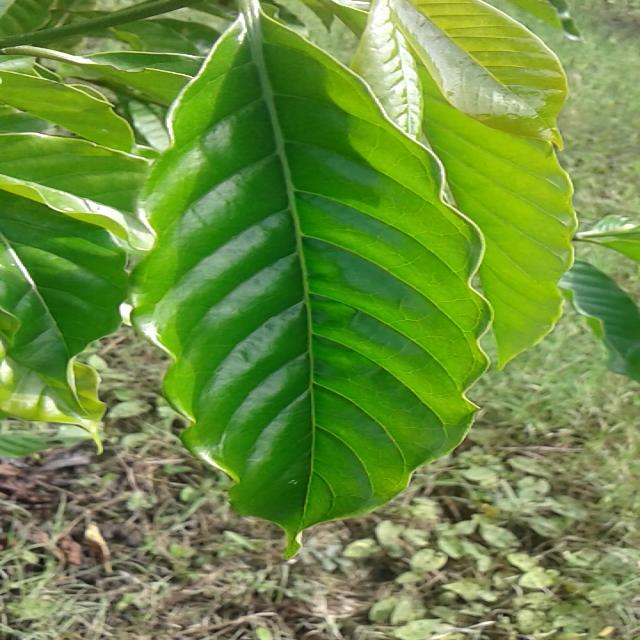Sanas: (130, 0, 499, 540)
